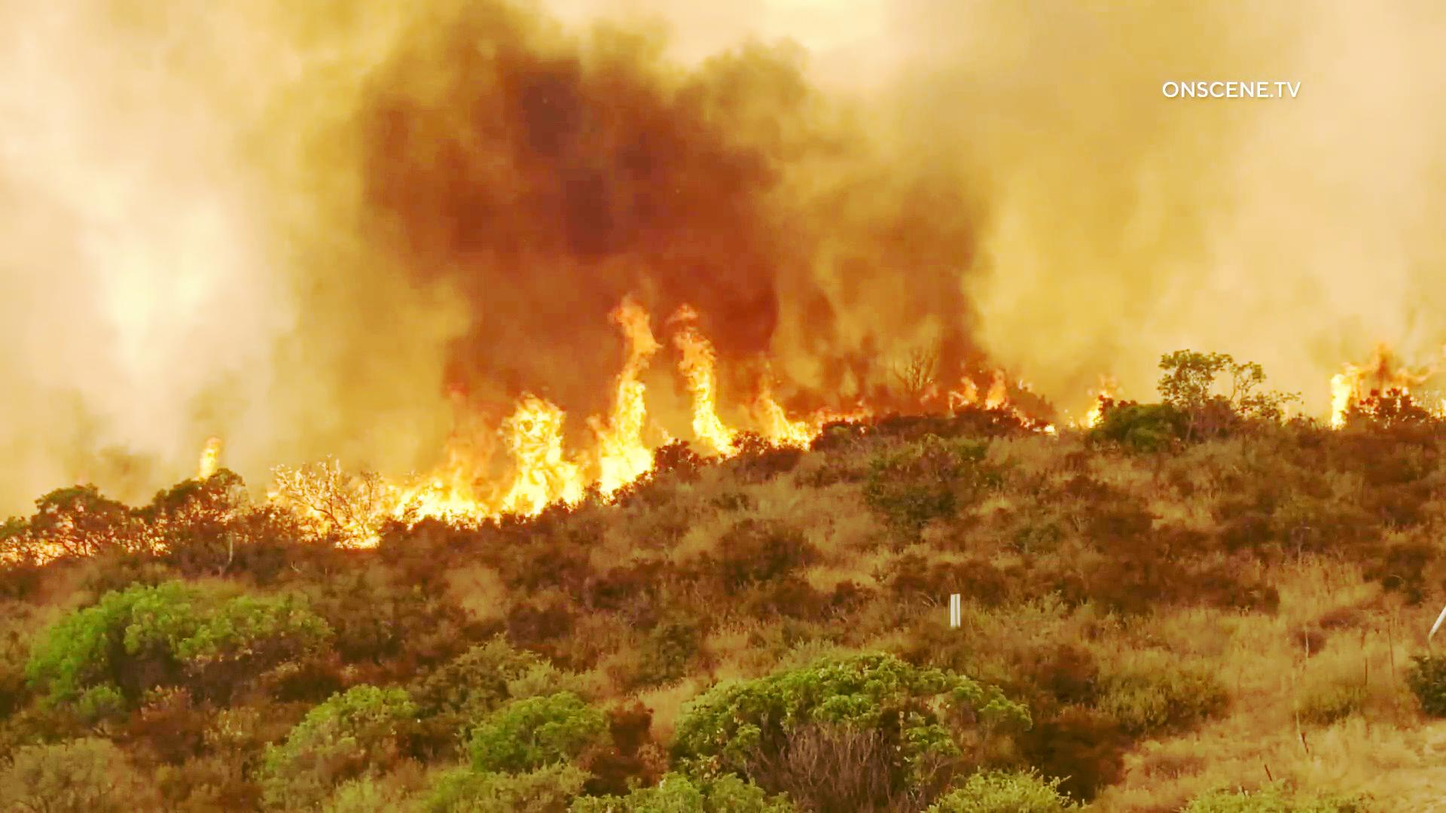fire: (624, 311, 753, 446), (486, 379, 578, 532), (253, 463, 394, 550), (599, 322, 661, 503), (405, 379, 484, 521)
smoke: (369, 2, 1001, 326)
